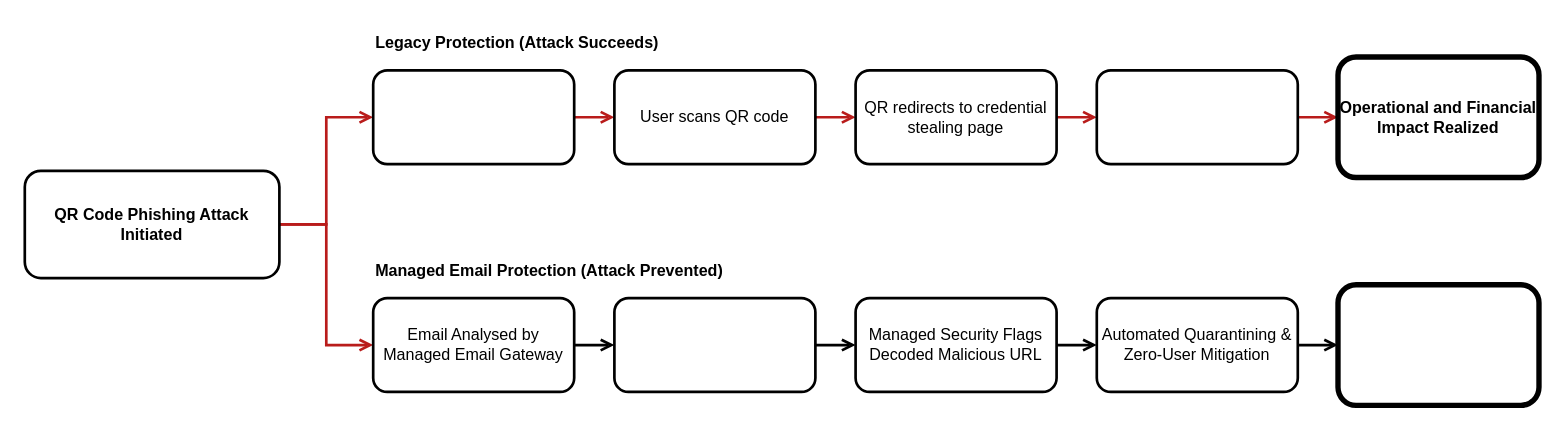
Some shapes in this 1564 by 430 pixel diagram are drawn without their labels. The shapes that lost their labels are listed below. From the top down, each one's centre as x and y in pixels, then its label:
the point at 473,116: Legacy filters allow email through
the point at 1196,116: IT / SOC reacts post-compromise
the point at 714,344: QR Image & Link Extraction Analysis
the point at 1438,344: Zero Business Impact Achieved
